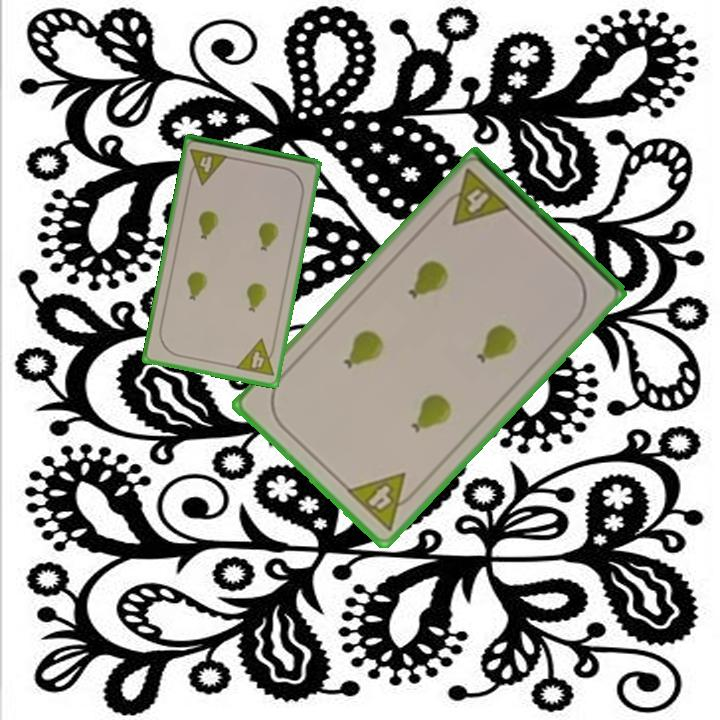4p: (343, 469, 423, 535), (435, 165, 514, 229), (232, 336, 279, 379), (185, 145, 231, 187)
